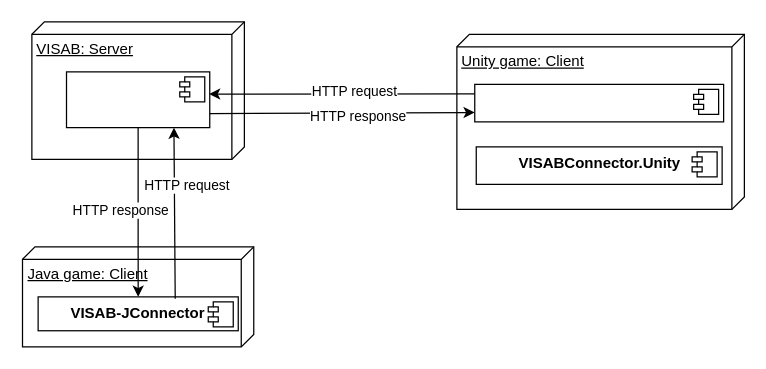
Some shapes in this 766 by 369 pixel diagram are drawn without their labels. Each missing label, with the centre of its shape:
"VISABConnector" belongs at pixel 599 102.
"WebAPI" belongs at pixel 137 99.
